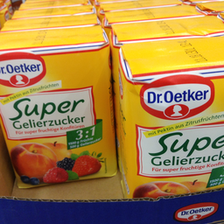tomato_sauce: (1, 25, 117, 191), (110, 36, 224, 198)
